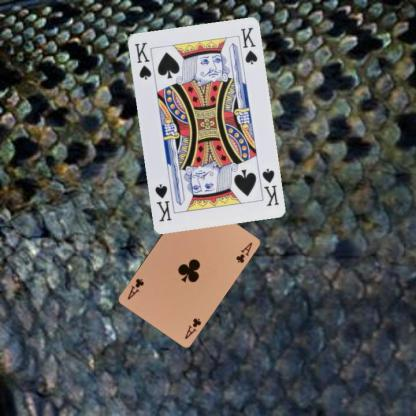Ac: (182, 315, 202, 340)
Ks: (258, 166, 280, 208), (132, 39, 152, 81)
